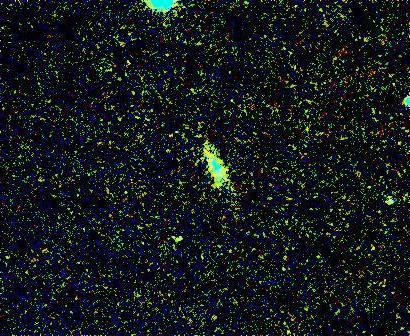star: (161, 229, 191, 259)
